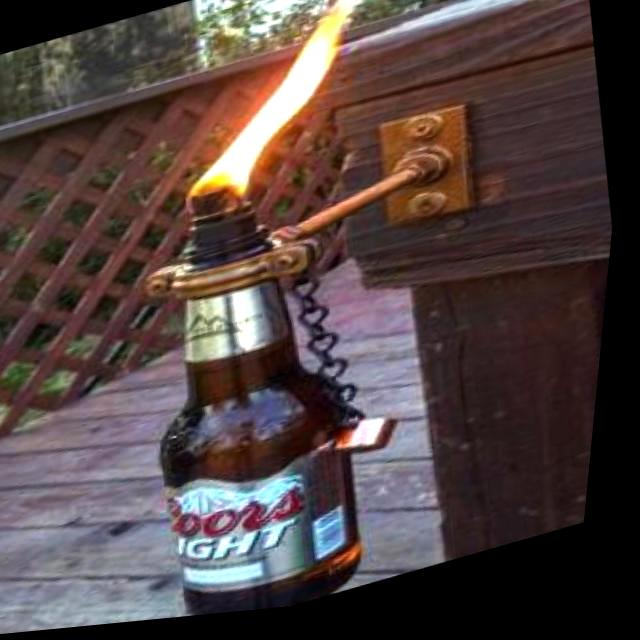fire: (144, 0, 407, 224)
